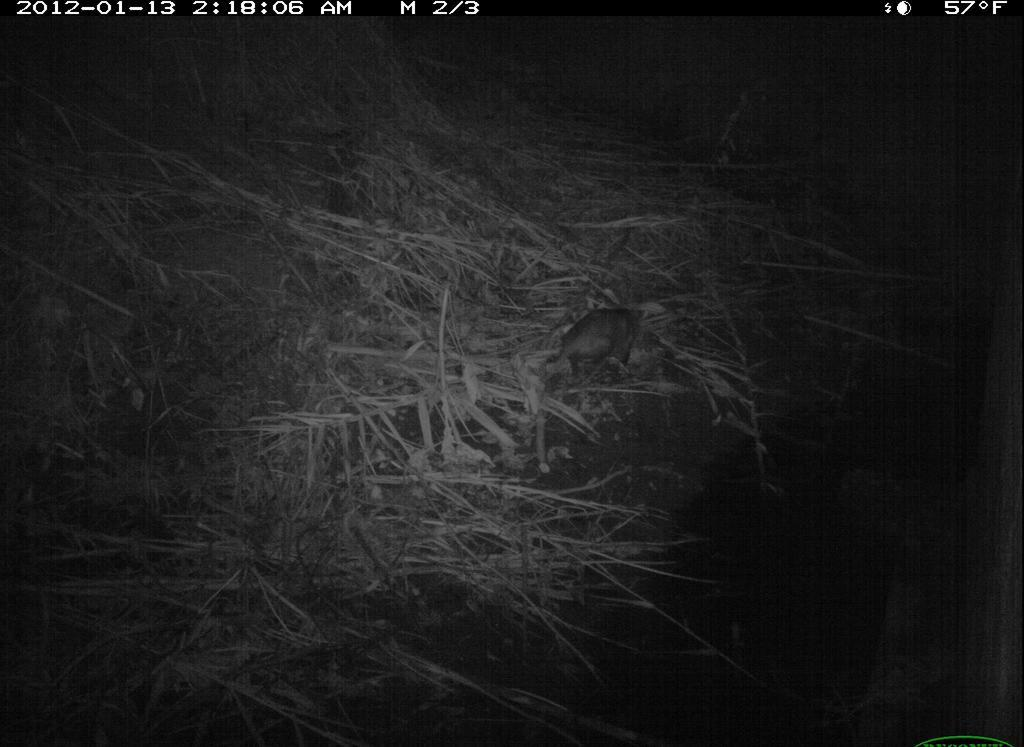opossum: (543, 296, 662, 399)
